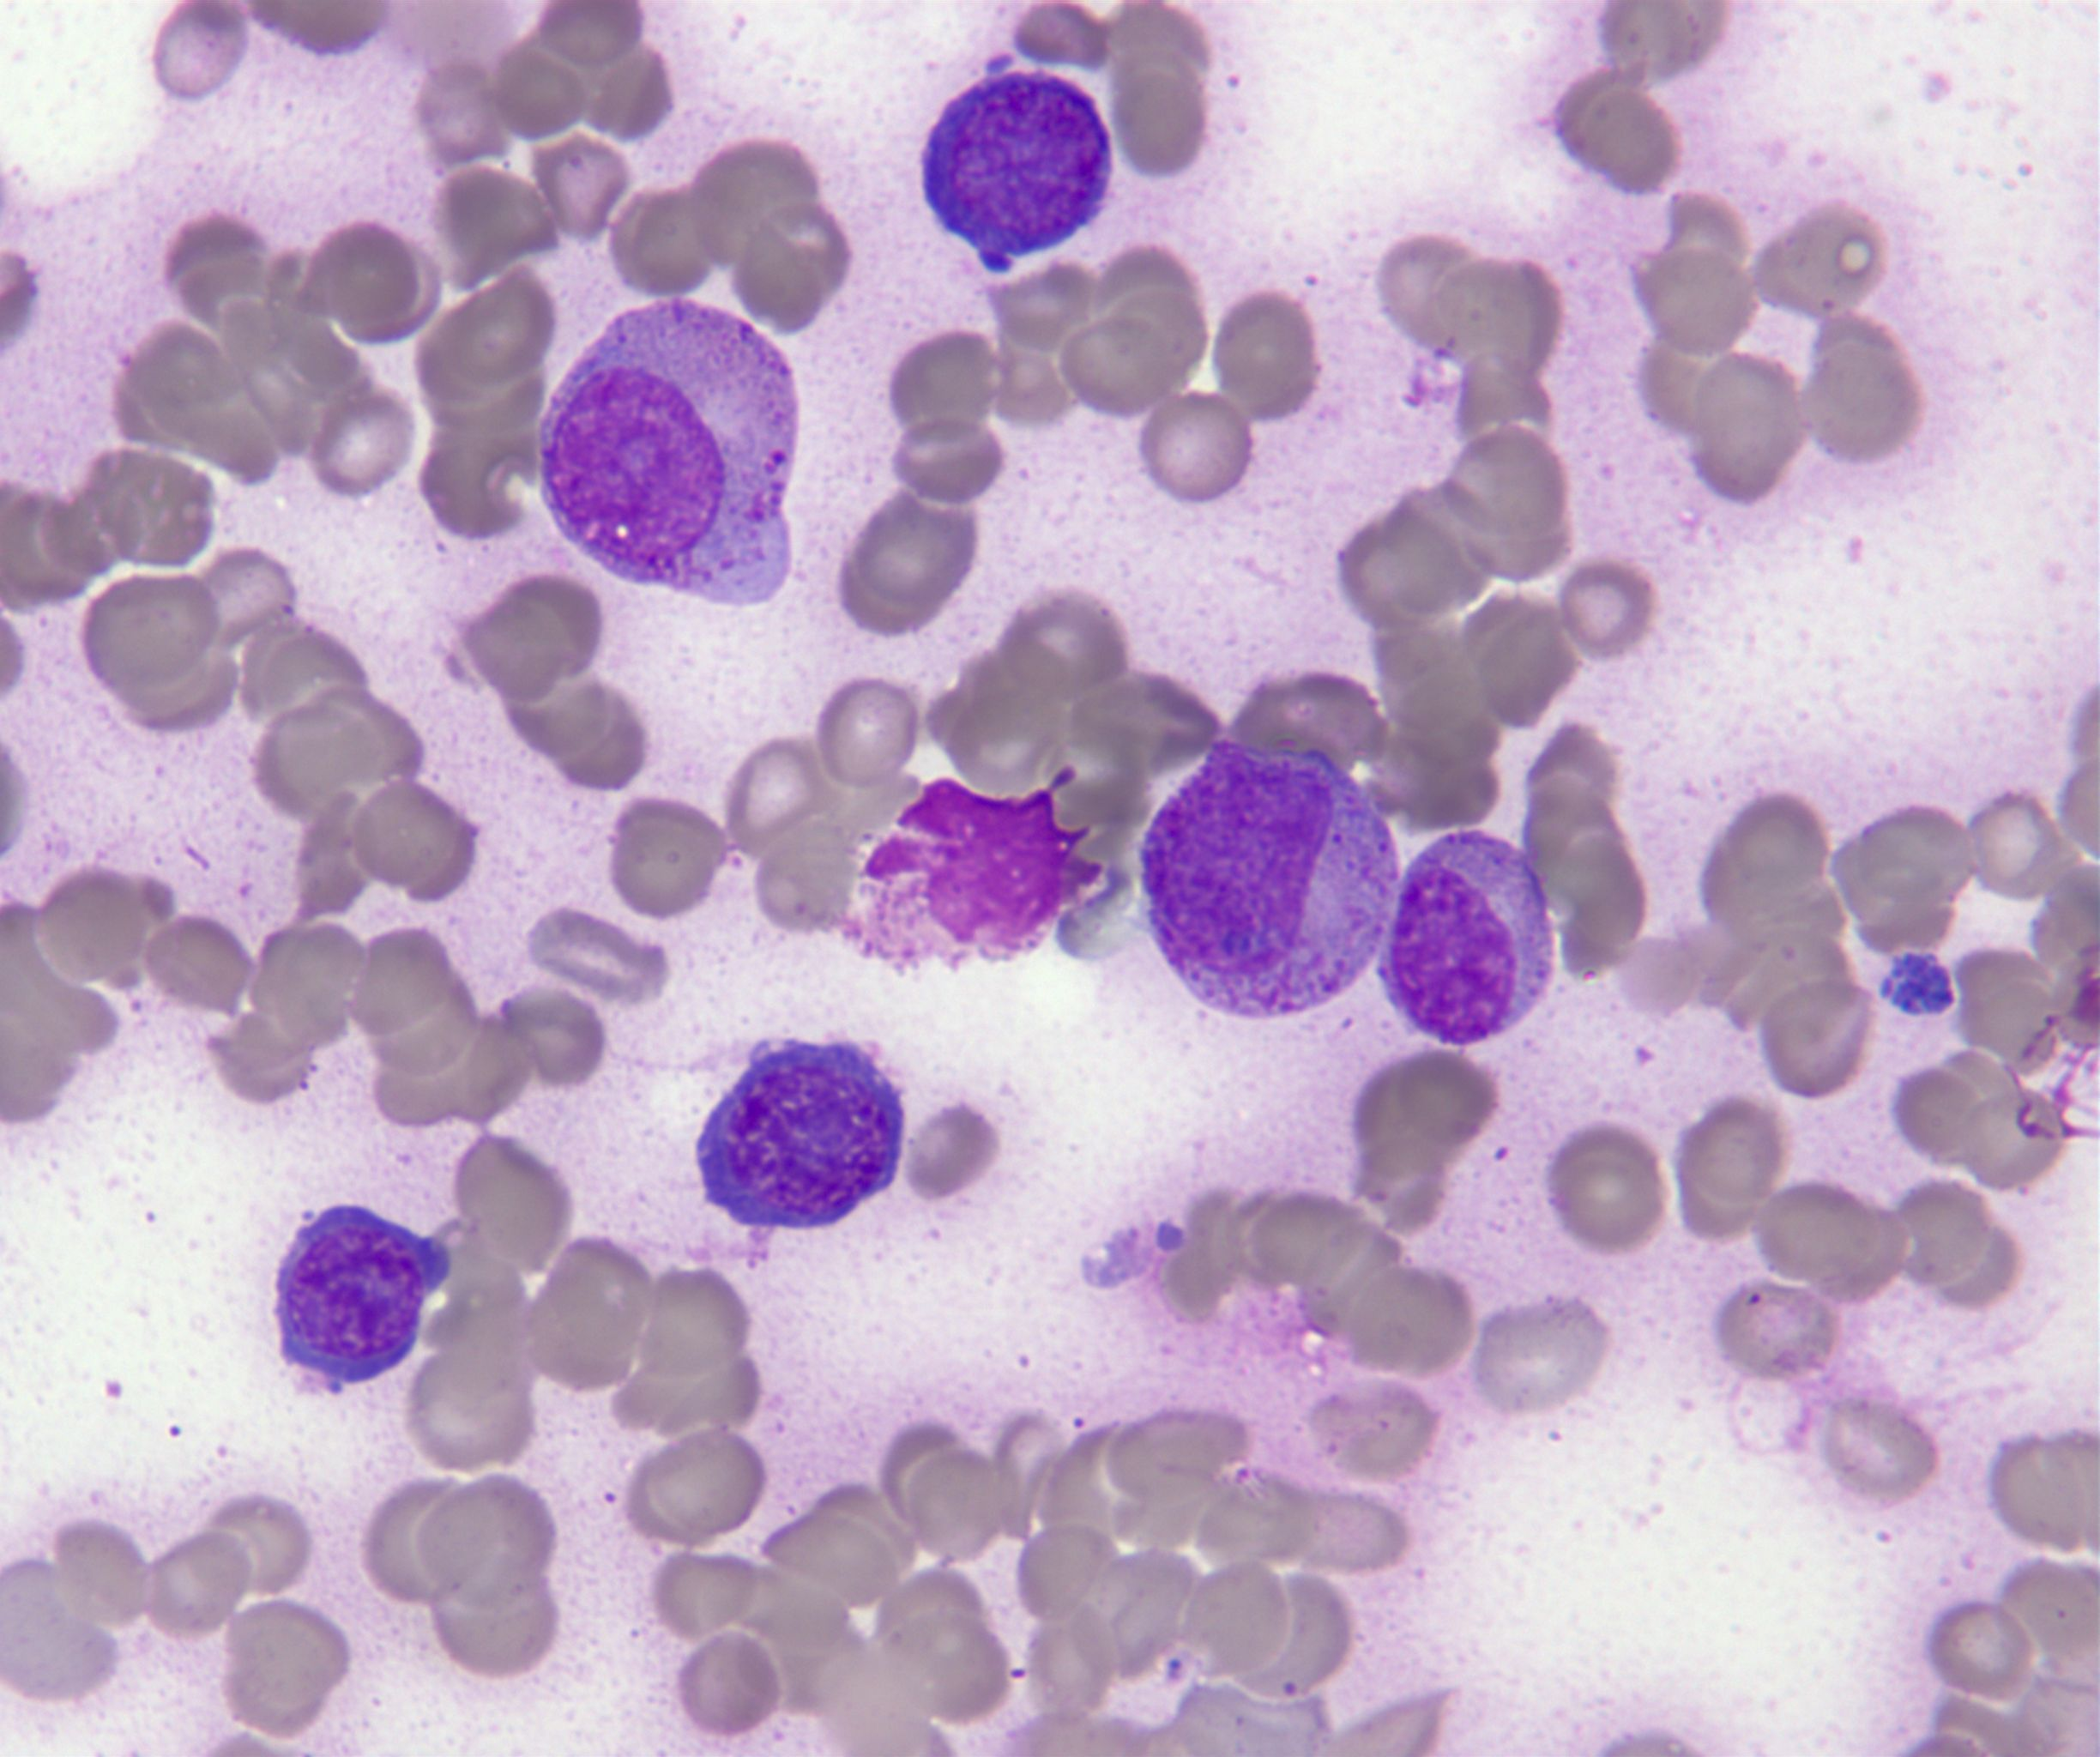22: (923, 72, 1111, 270)
23: (698, 1040, 900, 1228), (276, 1207, 452, 1384)
3: (541, 302, 795, 602), (1378, 832, 1551, 1045)
4: (1141, 742, 1399, 1017)
x: (834, 768, 1106, 968)
